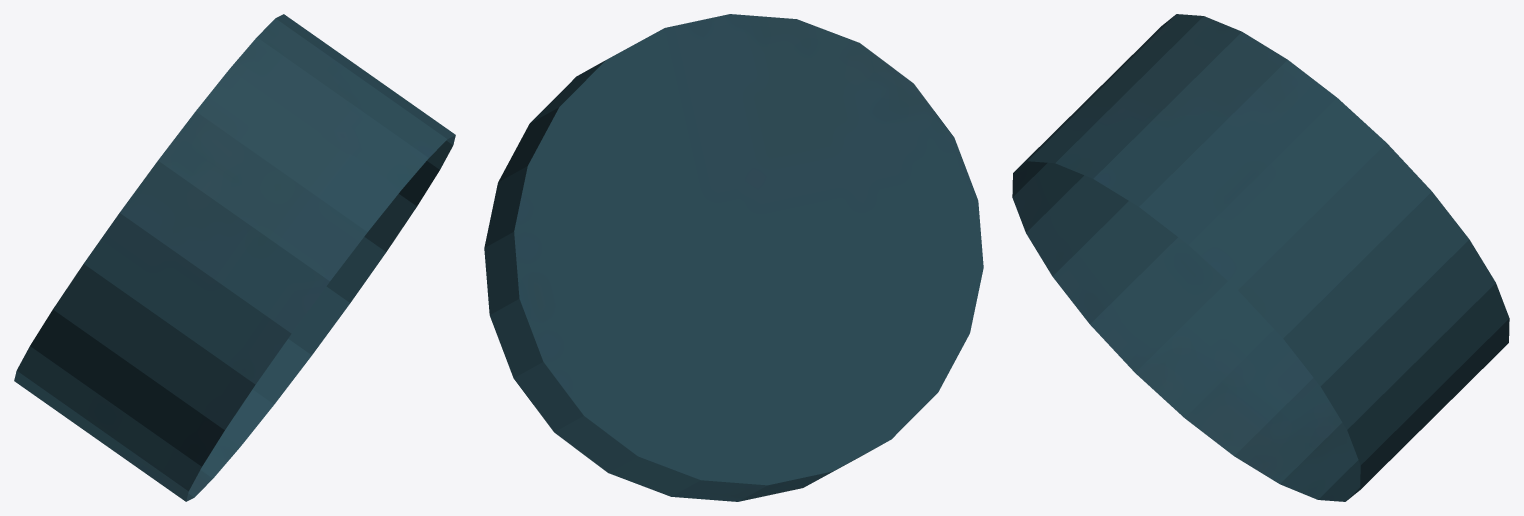
The model's file is mesh34.dat.obj.
3 renders of one model, left to right at view 1: azimuth 30°, elevation 25°; view 2: azimuth 150°, elevation 25°; view 3: azimuth 270°, elevation 25°, orthographic. The views are drawn at different scales.
Visible parts, largest first — view 1: Front_button_low; view 2: Front_button_low; view 3: Front_button_low.
Part boxes in pixels (x1,y1,x2,y2): Front_button_low: [14, 14, 455, 501]; Front_button_low: [484, 14, 983, 501]; Front_button_low: [1012, 14, 1509, 501].
Size of the model in its own units: 0.402 by 0.3994 by 0.3865.
1 material, 1 textured.
